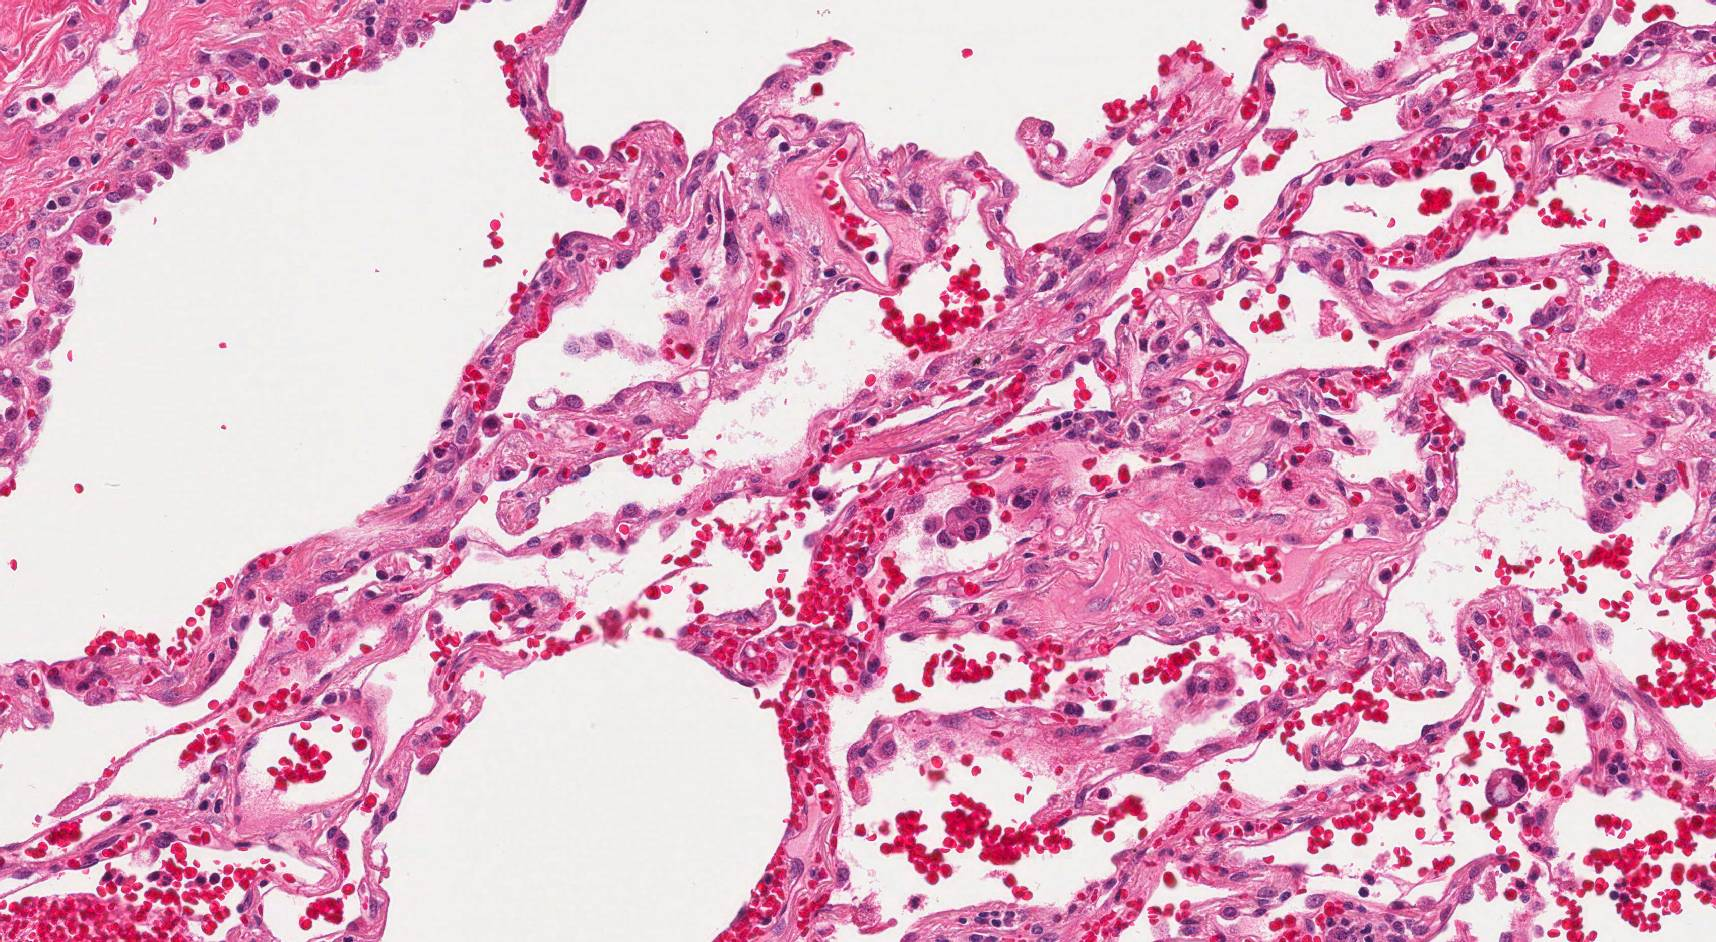stas: (923, 498, 996, 546), (1485, 767, 1531, 804)
